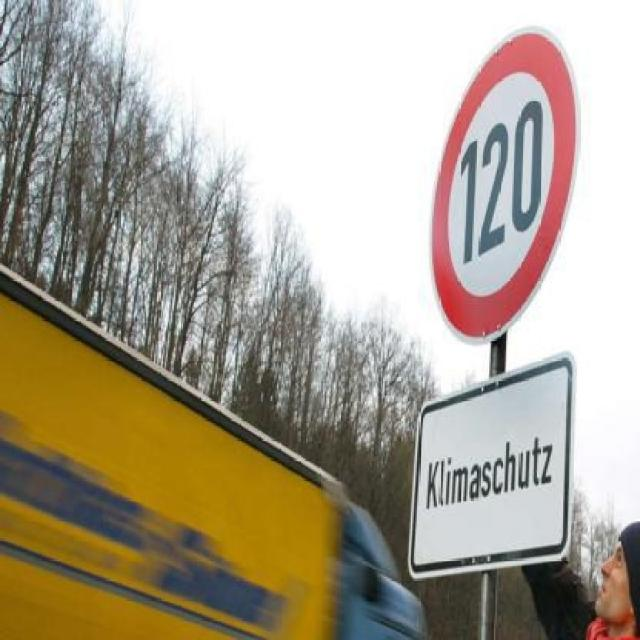forb_speed_over_120: (435, 38, 566, 336)
